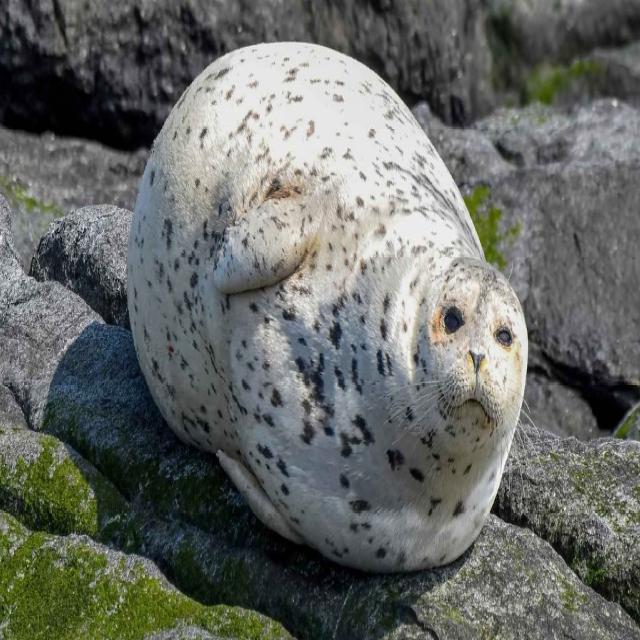WaterDog: (126, 43, 530, 577)
